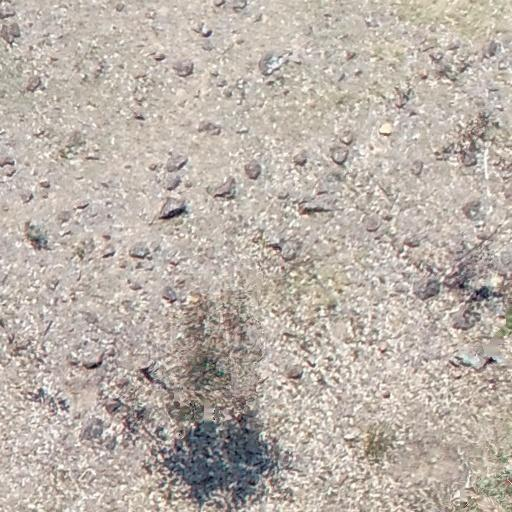stone: (452, 338, 505, 370), (74, 339, 107, 369), (257, 50, 290, 76), (428, 50, 458, 78), (412, 275, 442, 301), (77, 56, 107, 82), (112, 348, 142, 373), (157, 198, 187, 221), (461, 196, 487, 222), (80, 417, 106, 443), (450, 307, 478, 331), (392, 85, 415, 109), (102, 396, 128, 417), (208, 176, 235, 196), (280, 238, 304, 260), (72, 234, 96, 256), (83, 201, 109, 221), (297, 201, 334, 215), (63, 130, 86, 150), (139, 363, 159, 384), (482, 39, 501, 60), (128, 240, 150, 258), (403, 230, 425, 248), (164, 154, 187, 171), (174, 59, 195, 77), (328, 144, 349, 162), (195, 118, 220, 133), (323, 170, 345, 186), (245, 161, 264, 179), (158, 284, 178, 301), (56, 208, 74, 226), (460, 150, 479, 167), (164, 173, 182, 190), (0, 21, 12, 46), (100, 243, 118, 259), (112, 375, 130, 391), (82, 310, 100, 326), (173, 87, 191, 103), (7, 21, 22, 40), (286, 364, 303, 380), (363, 14, 381, 28), (154, 5, 172, 19), (366, 216, 382, 231), (0, 154, 16, 169), (428, 50, 445, 64), (1, 3, 16, 18), (378, 123, 395, 136), (421, 38, 438, 51), (191, 18, 206, 32), (234, 121, 249, 135), (267, 235, 282, 249), (393, 282, 410, 294), (26, 77, 40, 91), (20, 190, 34, 204), (340, 130, 355, 143), (294, 154, 310, 166), (4, 164, 18, 177), (305, 96, 319, 109), (232, 34, 246, 46), (232, 0, 248, 10), (74, 200, 90, 210), (127, 281, 143, 291), (343, 430, 359, 440), (201, 25, 214, 37), (202, 40, 216, 51), (276, 190, 291, 200), (132, 111, 147, 121), (418, 68, 430, 80), (448, 39, 460, 51), (412, 162, 424, 174), (305, 357, 317, 369), (38, 177, 51, 188), (381, 209, 395, 219), (84, 153, 100, 161), (115, 0, 125, 12), (223, 88, 233, 100), (209, 67, 220, 77), (346, 49, 356, 60), (154, 51, 166, 60), (100, 181, 112, 190), (218, 78, 228, 88), (336, 73, 346, 83), (147, 162, 158, 171), (214, 0, 226, 7), (381, 390, 391, 398), (254, 12, 262, 20), (123, 164, 132, 169)
